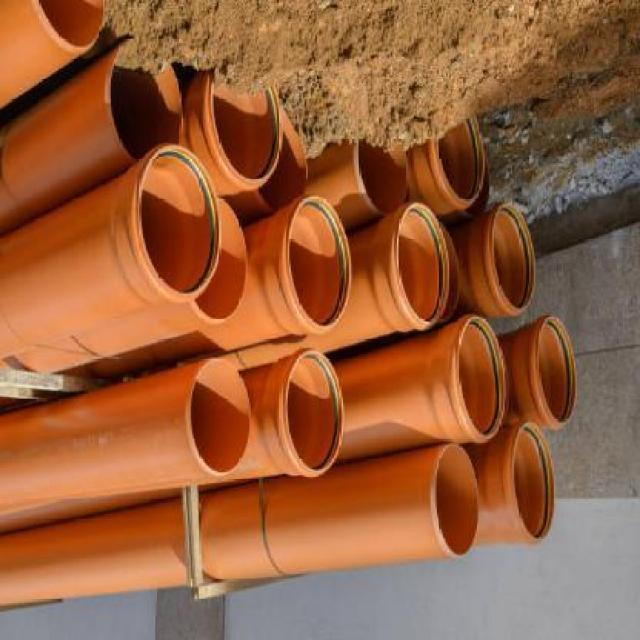pipe: (136, 141, 222, 297), (109, 40, 182, 162), (286, 194, 352, 328), (208, 69, 283, 185), (285, 348, 345, 474), (188, 357, 251, 474), (192, 196, 246, 322), (397, 202, 451, 327), (459, 314, 508, 437), (430, 442, 479, 560), (514, 422, 557, 542), (491, 203, 536, 311), (535, 314, 577, 428), (437, 112, 486, 203), (355, 141, 408, 214), (34, 0, 105, 48)
